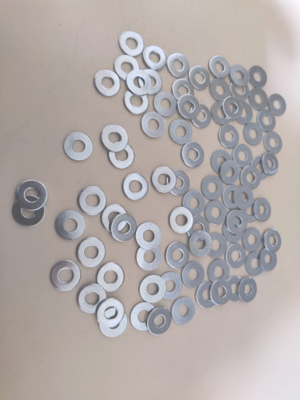circle: (50, 260, 82, 292), (17, 179, 48, 211), (55, 210, 86, 241), (13, 197, 45, 227), (77, 237, 107, 268), (63, 131, 94, 161), (139, 271, 167, 304), (97, 261, 126, 291), (78, 284, 107, 314), (96, 298, 125, 328), (78, 186, 108, 215), (99, 308, 127, 338), (164, 240, 191, 271), (135, 243, 163, 272), (131, 302, 158, 332), (147, 306, 173, 337), (102, 204, 130, 232), (206, 258, 233, 287), (101, 126, 129, 153), (135, 222, 162, 250), (171, 296, 196, 326), (181, 260, 206, 290), (122, 173, 149, 200), (168, 207, 195, 234), (95, 70, 121, 98), (109, 142, 135, 169), (114, 55, 140, 82), (118, 31, 145, 57), (111, 214, 136, 242), (138, 66, 163, 94), (159, 272, 184, 300), (127, 69, 152, 96), (200, 174, 225, 201), (152, 165, 176, 193), (154, 90, 178, 118), (189, 230, 213, 258), (204, 198, 228, 226), (167, 169, 191, 197), (209, 278, 232, 307), (142, 45, 167, 71), (176, 94, 201, 120), (142, 112, 166, 139), (183, 190, 207, 217), (197, 281, 220, 309), (188, 215, 211, 242), (225, 242, 247, 270), (168, 120, 192, 145), (125, 90, 149, 115), (209, 78, 234, 102), (182, 142, 205, 168), (211, 101, 234, 127), (166, 54, 190, 78), (240, 165, 262, 191), (238, 277, 259, 304), (245, 251, 266, 278), (190, 104, 212, 129), (190, 65, 211, 91), (259, 247, 280, 273), (208, 232, 228, 259), (208, 56, 231, 79), (173, 79, 195, 103), (256, 110, 278, 134), (233, 186, 255, 210), (242, 228, 263, 253), (223, 96, 244, 121), (227, 210, 248, 235), (212, 149, 233, 174), (233, 144, 254, 169), (221, 160, 241, 186), (247, 65, 269, 88), (219, 125, 240, 149), (235, 100, 254, 126), (230, 79, 251, 102), (230, 64, 250, 87), (244, 123, 264, 146), (264, 229, 283, 253), (268, 93, 287, 117), (254, 198, 273, 222), (250, 88, 269, 111), (265, 131, 283, 155), (262, 152, 279, 176)
